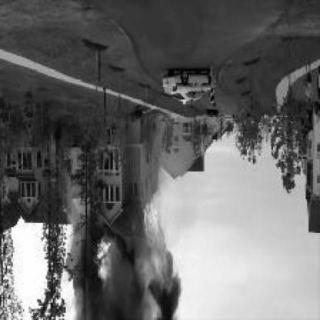Fire: (133, 196, 175, 296)
Smoke: (64, 240, 141, 320)
